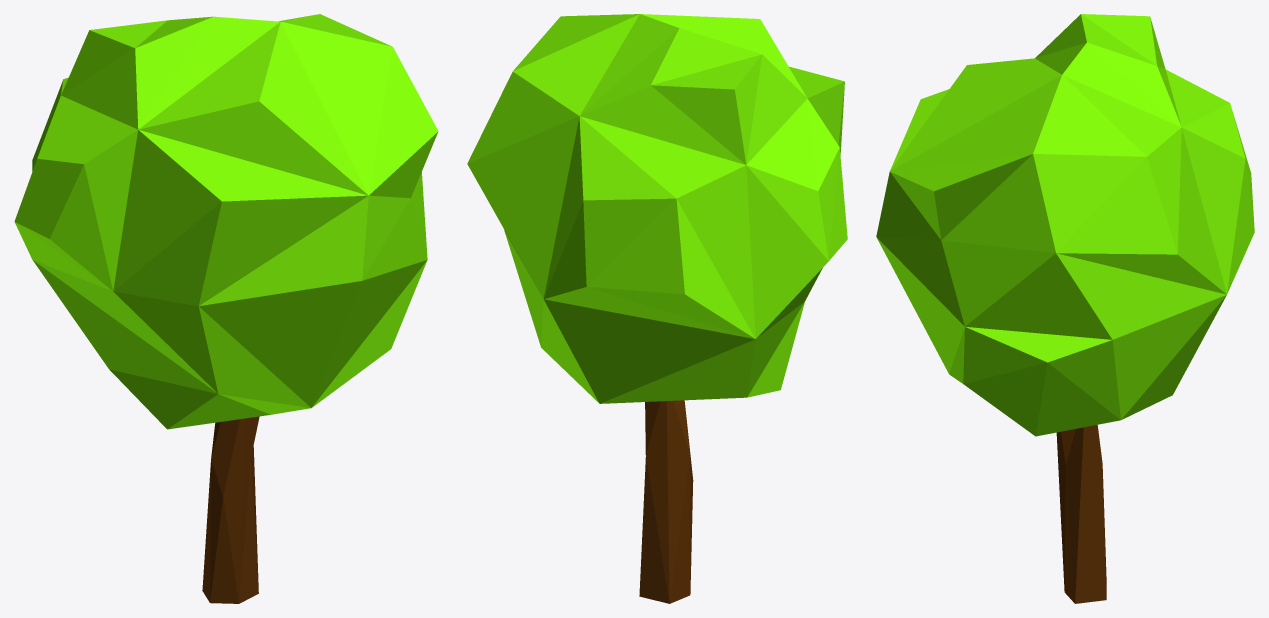
The model's file is Tree_Blob_01.FBX.
3 renders of one model, left to right at view 1: azimuth 30°, elevation 25°; view 2: azimuth 150°, elevation 25°; view 3: azimuth 270°, elevation 25°, orthographic. The views are drawn at different scales.
Parts seen in each view (by area): view 1: tree_blob_01; view 2: tree_blob_01; view 3: tree_blob_01.
Boxes of the visible parts, left/top/right/bottom form: tree_blob_01: left=14, top=14, right=438, bottom=603; tree_blob_01: left=467, top=14, right=847, bottom=603; tree_blob_01: left=876, top=14, right=1254, bottom=603.
Bounding box in the file's own units: 6.94 × 6.68 × 10.59.
